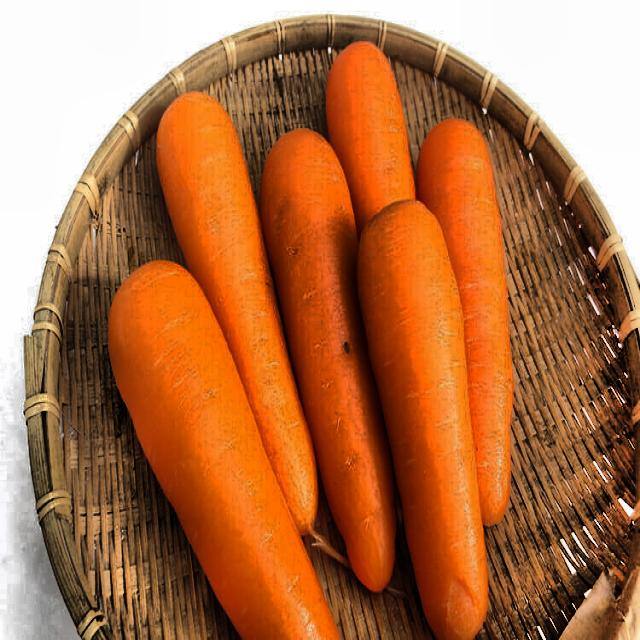carrot: (120, 48, 524, 638)
